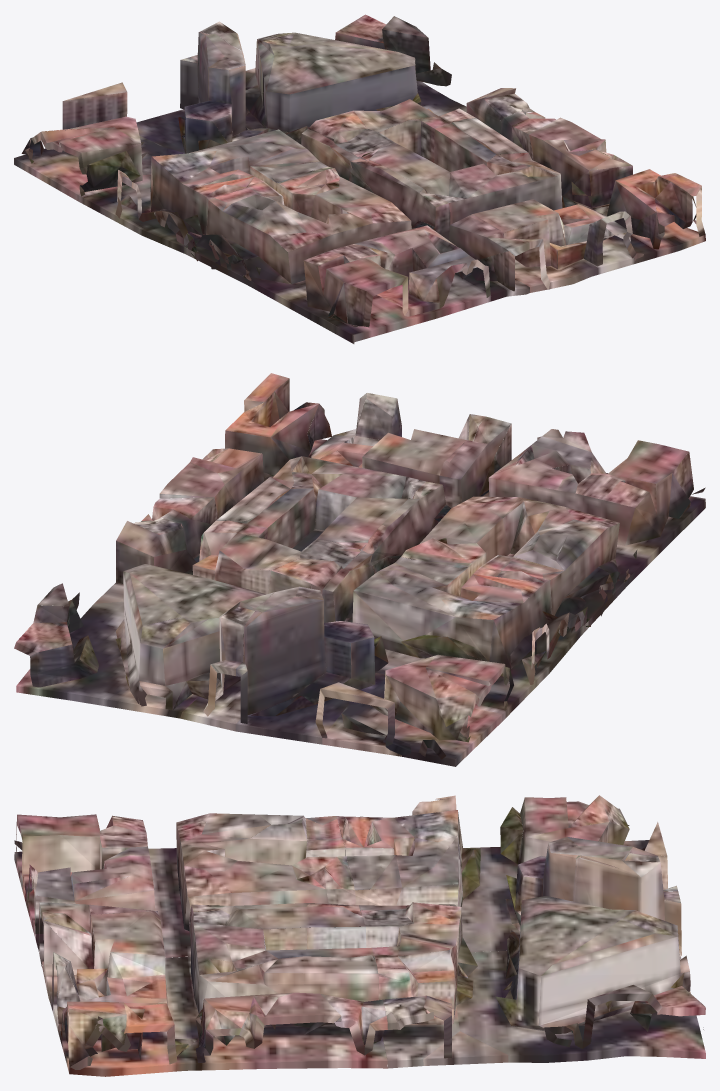
The picture shows the model from 3 angles, top to bottom: view 1: azimuth 30°, elevation 25°; view 2: azimuth 150°, elevation 25°; view 3: azimuth 270°, elevation 25°; orthographic projection. The views are drawn at different scales.
Visible parts, largest first — view 1: Mesh_0; view 2: Mesh_0; view 3: Mesh_0.
Boxes of the visible parts, x1=… form: Mesh_0: x1=14, y1=14, x2=705, y2=343; Mesh_0: x1=14, y1=373, x2=705, y2=766; Mesh_0: x1=14, y1=795, x2=705, y2=1076.
Size of the model in its own units: 266 by 56.67 by 330.
2 materials, 2 textured.
